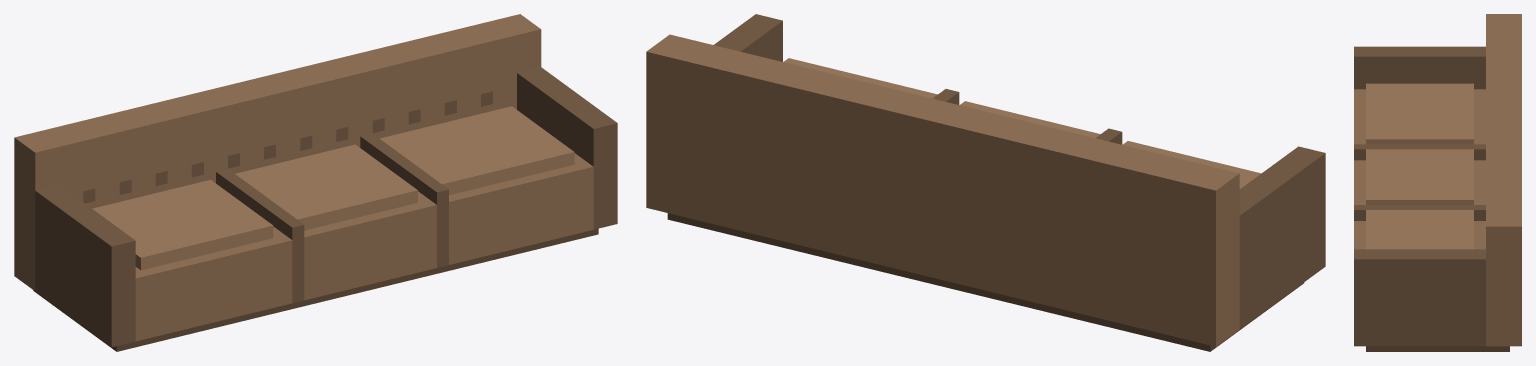
The model's file is sofa_cuero_triple_01.glb.
The picture shows the model from 3 angles, left to right: view 1: azimuth 30°, elevation 25°; view 2: azimuth 150°, elevation 25°; view 3: azimuth 270°, elevation 25°; orthographic projection. The views are drawn at different scales.
Visible parts, largest first — view 1: sofa_cuero_triple; view 2: sofa_cuero_triple; view 3: sofa_cuero_triple.
Boxes of the visible parts, x1=… form: sofa_cuero_triple: x1=14, y1=14, x2=617, y2=351; sofa_cuero_triple: x1=646, y1=14, x2=1325, y2=351; sofa_cuero_triple: x1=1354, y1=14, x2=1521, y2=351.
Bounding box in the file's own units: 3 × 0.8571 × 1.
